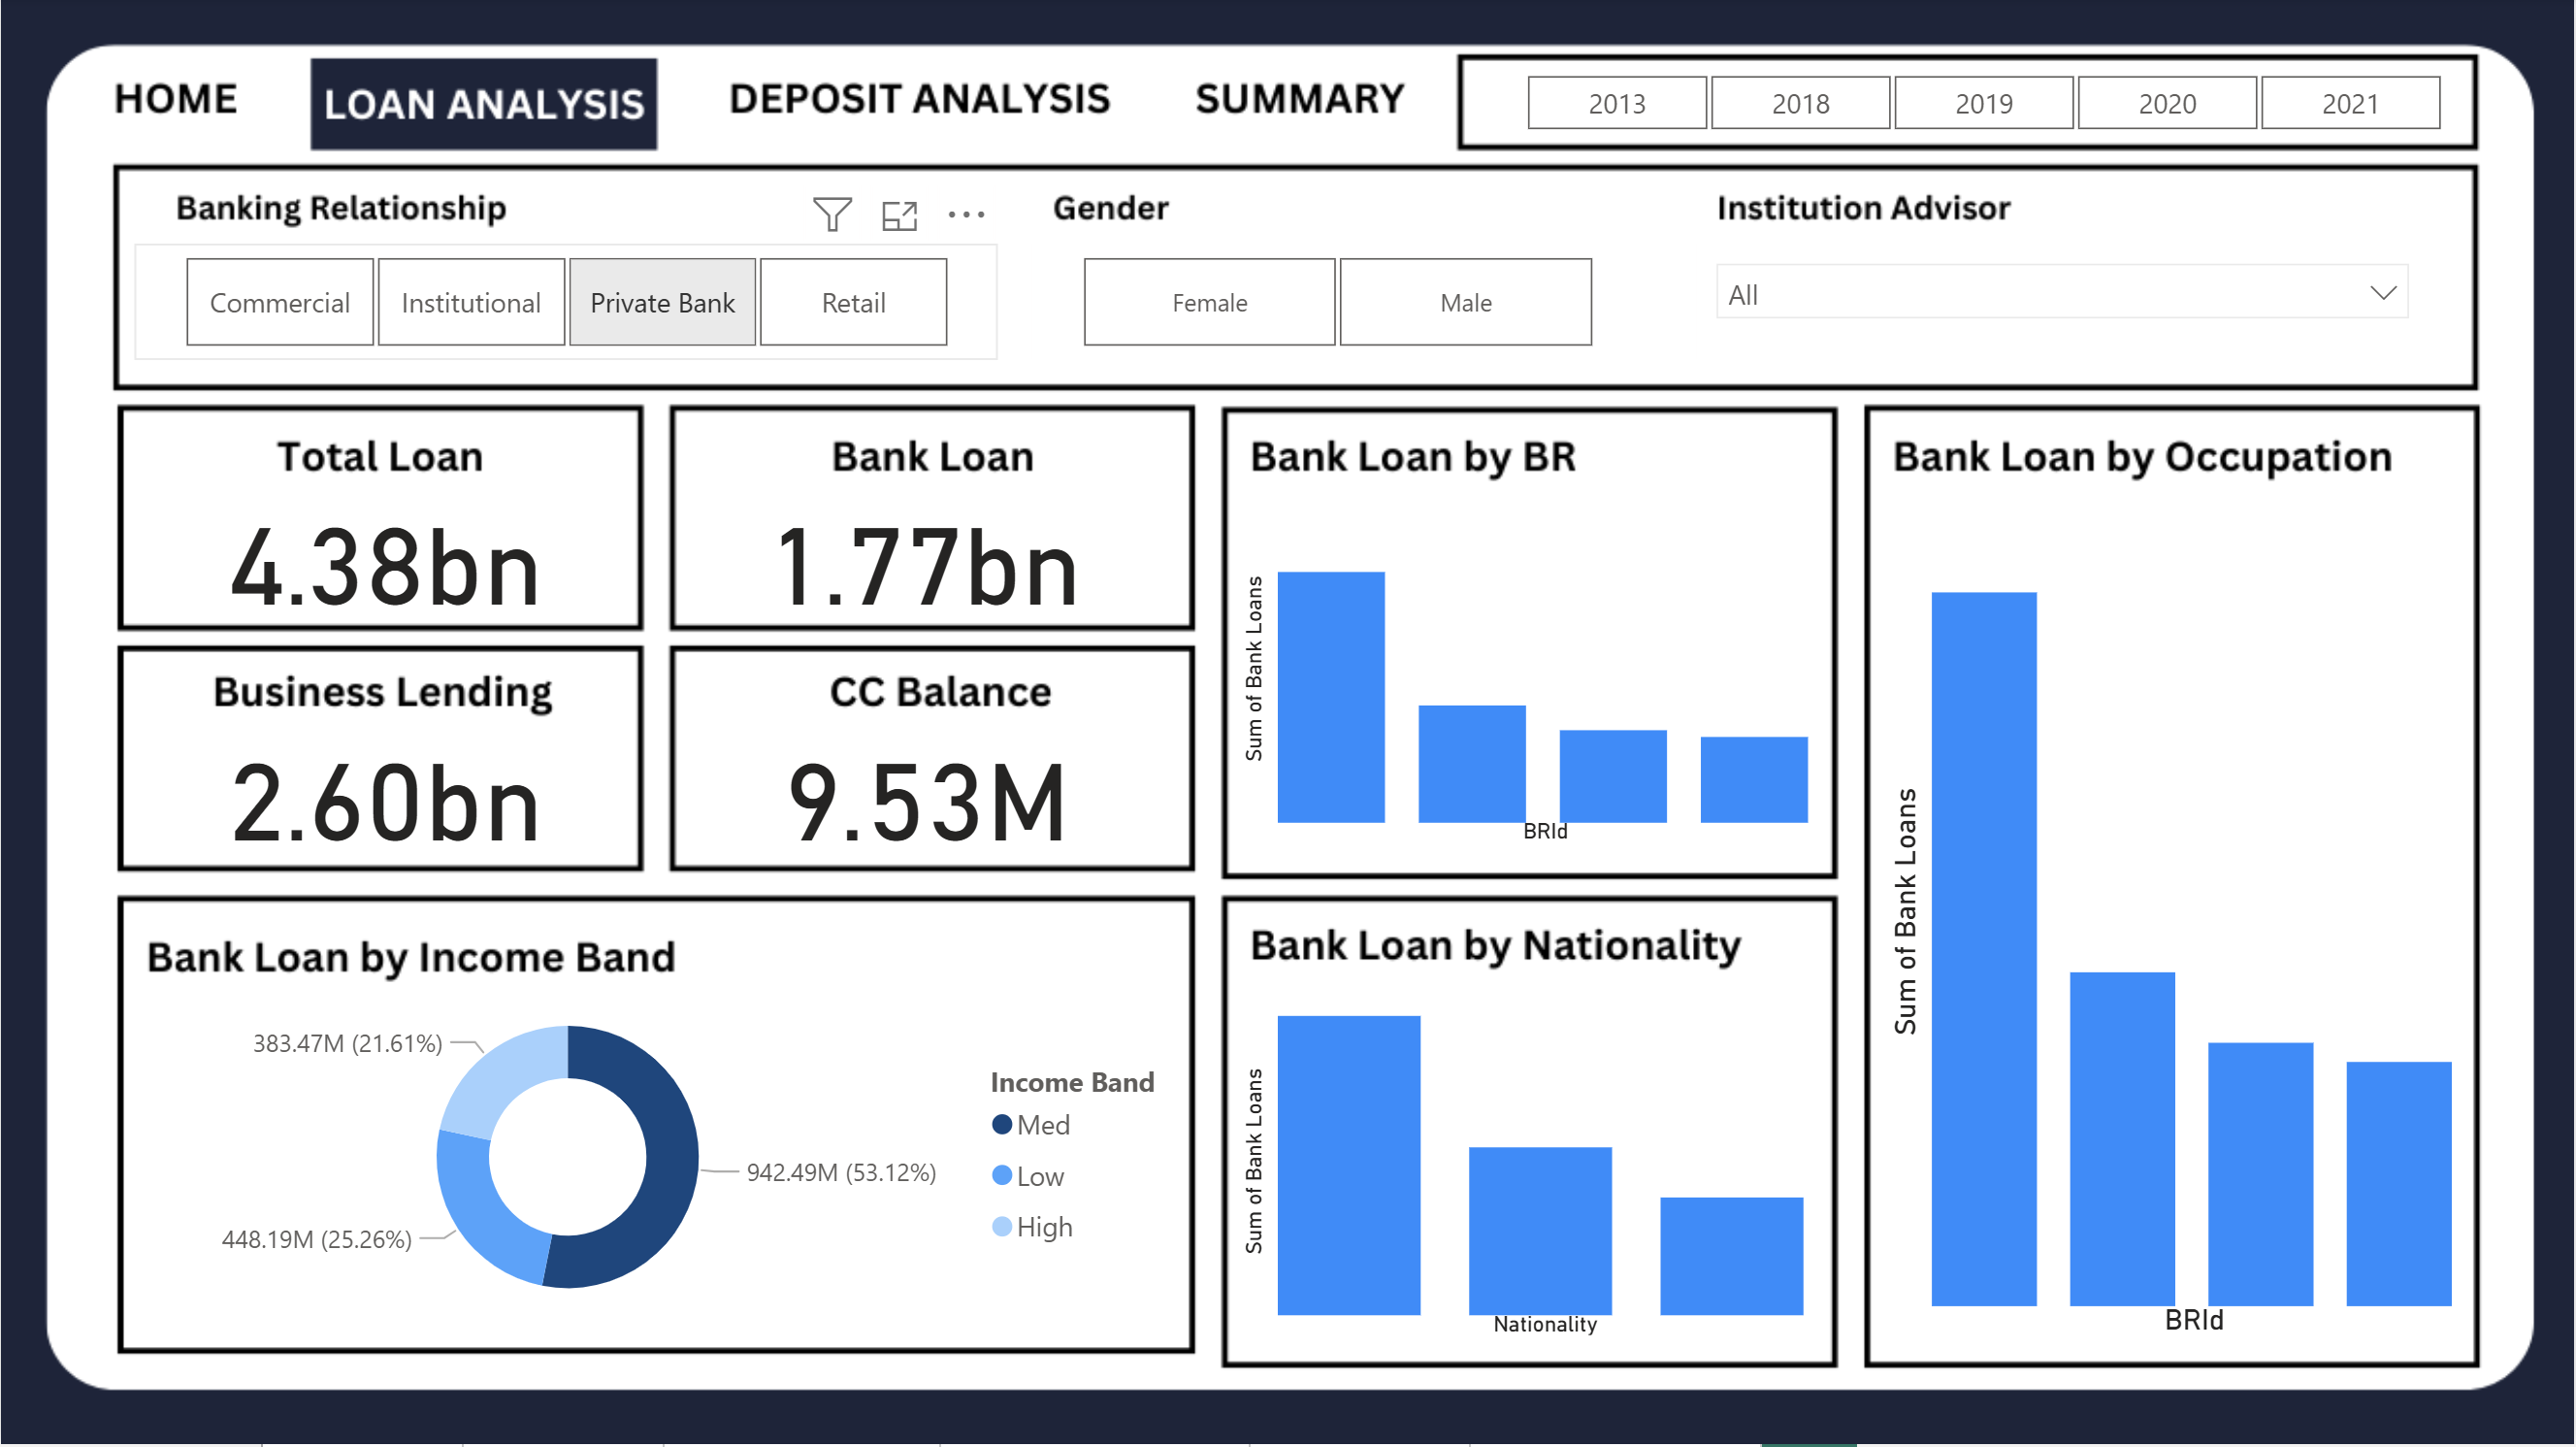

The page's visual inventory and layout, read from the dashboard file:
{"tool":"powerbi","page":{"name":"Loan Analysis","canvas":[1280,720],"ordinal":2},"visuals":[{"type":"slicer","fields":{"Values":["banking_case customer.Year of Joining"]},"box":[733.3,32.2,504.1,34.9],"z":0},{"type":"actionButton","box":[36.4,31.7,99.7,39.6],"z":1000},{"type":"actionButton","box":[348.2,31.7,221.6,39.6],"z":2000},{"type":"actionButton","box":[587.1,31.7,123.4,39.6],"z":3000},{"type":"card","fields":{"Values":["banking_case customer.Total Loan"]},"box":[100.9,243.7,179.5,65.5],"z":4000},{"type":"card","fields":{"Values":["Sum(banking_case customer.Bank Loans)"]},"box":[369.5,243.7,179.5,65.5],"z":5000},{"type":"card","fields":{"Values":["Sum(banking_case customer.Business Lending)"]},"box":[100.9,360.4,179.5,65.5],"z":6000},{"type":"card","fields":{"Values":["Sum(banking_case customer.Credit Card Balance)"]},"box":[370.8,360.4,179.5,65.5],"z":7000},{"type":"donutChart","fields":{"Category":["banking_case customer.Income Band"],"Y":["Sum(banking_case customer.Bank Loans)"]},"box":[66.8,488.8,530.7,176.9],"z":8000},{"type":"clusteredColumnChart","fields":{"Category":["banking_case customer.BRId"],"Y":["Sum(banking_case customer.Bank Loans)"]},"box":[613.3,243.7,293.5,182.1],"z":9000},{"type":"clusteredColumnChart","fields":{"Category":["banking_case customer.Nationality"],"Y":["Sum(banking_case customer.Bank Loans)"]},"box":[613.3,488.8,293.5,182.1],"z":10000},{"type":"clusteredColumnChart","fields":{"Category":["banking_case customer.BRId"],"Y":["Sum(banking_case customer.Bank Loans)"]},"box":[933.7,245.3,292.8,425.7],"z":11000},{"type":"slicer","fields":{"Values":["banking_case customer.BRId"]},"box":[66.8,123.2,428.5,57.7],"z":12000},{"type":"slicer","fields":{"Values":["banking_case customer.GenderId"]},"box":[512.4,123.2,302.7,57.7],"z":13000},{"type":"slicer","fields":{"Values":["banking_case customer.IAId"]},"box":[843.9,123.2,364.3,57.7],"z":14000}]}

Visuals, with their boxes in screenshot pixels (x1, y1, x2, y2), scaled from the page's 1280x720 canvas onto the 2576x1447 screenshot:
slicer - banking_case customer.Year of Joining: (1476, 65, 2491, 135)
actionButton: (74, 64, 274, 144)
actionButton: (701, 64, 1147, 144)
actionButton: (1182, 64, 1430, 144)
card - banking_case customer.Total Loan: (203, 490, 565, 621)
card - Sum(banking_case customer.Bank Loans): (743, 490, 1105, 621)
card - Sum(banking_case customer.Business Lending): (203, 724, 565, 856)
card - Sum(banking_case customer.Credit Card Balance): (746, 724, 1107, 856)
donutChart - banking_case customer.Income Band x Sum(banking_case customer.Bank Loans): (135, 982, 1202, 1338)
clusteredColumnChart - banking_case customer.BRId x Sum(banking_case customer.Bank Loans): (1234, 490, 1825, 856)
clusteredColumnChart - banking_case customer.Nationality x Sum(banking_case customer.Bank Loans): (1234, 982, 1825, 1348)
clusteredColumnChart - banking_case customer.BRId x Sum(banking_case customer.Bank Loans): (1879, 493, 2468, 1349)
slicer - banking_case customer.BRId: (135, 247, 996, 364)
slicer - banking_case customer.GenderId: (1031, 247, 1641, 364)
slicer - banking_case customer.IAId: (1698, 247, 2431, 364)
